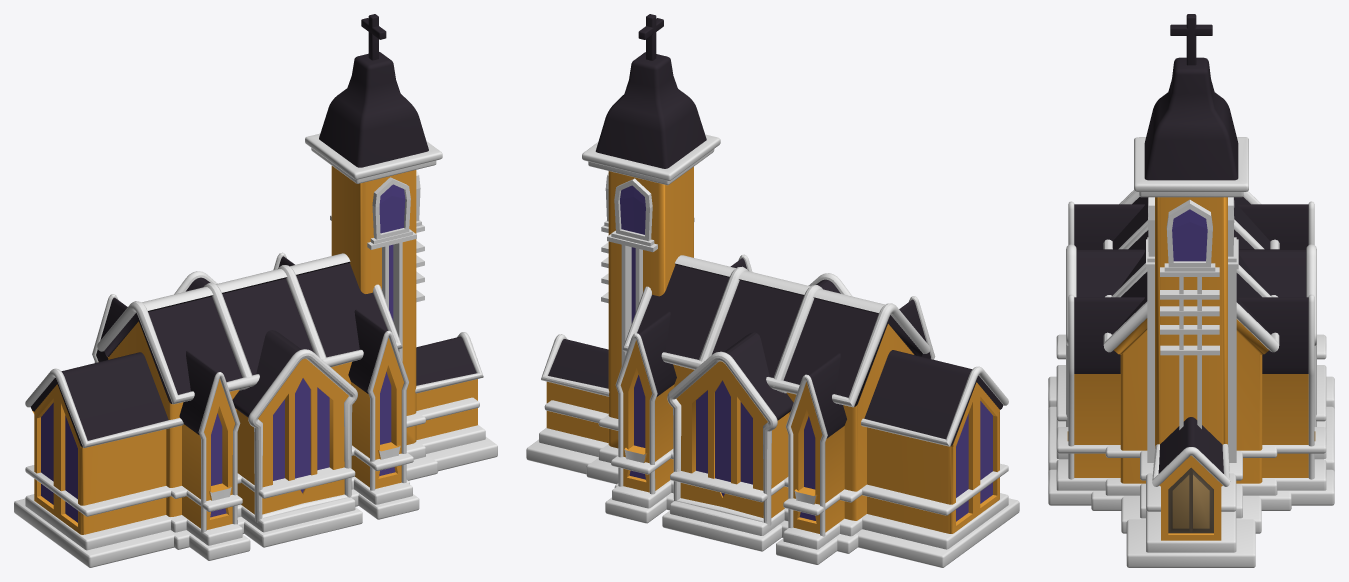
The model's file is kilise.fbx.
3 renders of one model, left to right at view 1: azimuth 30°, elevation 25°; view 2: azimuth 150°, elevation 25°; view 3: azimuth 270°, elevation 25°, orthographic. The views are drawn at different scales.
Parts seen in each view (by area): view 1: kilise; view 2: kilise; view 3: kilise.
Boxes of the visible parts, <box> form: kilise: <box>14,14,497,567</box>; kilise: <box>526,14,1019,567</box>; kilise: <box>1048,14,1334,567</box>.
Size of the model in its own units: 774 by 779 by 404.
